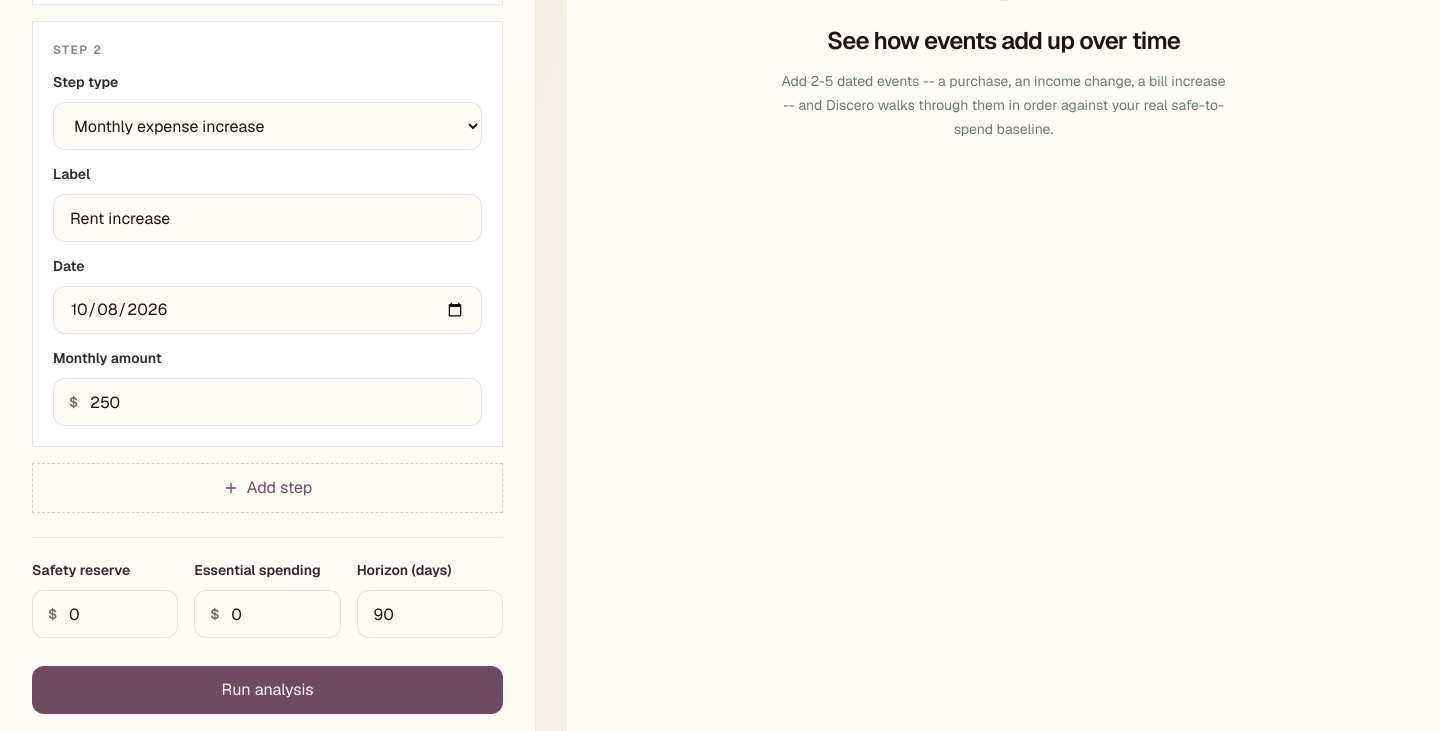
MultiStepScenarioPlanner › renders checkpoints in chronological order with recurring labels
(page scrolled)
Step 1. Click the button "Run analysis" → [268, 690], box [32, 666, 503, 714]
(page scrolled)
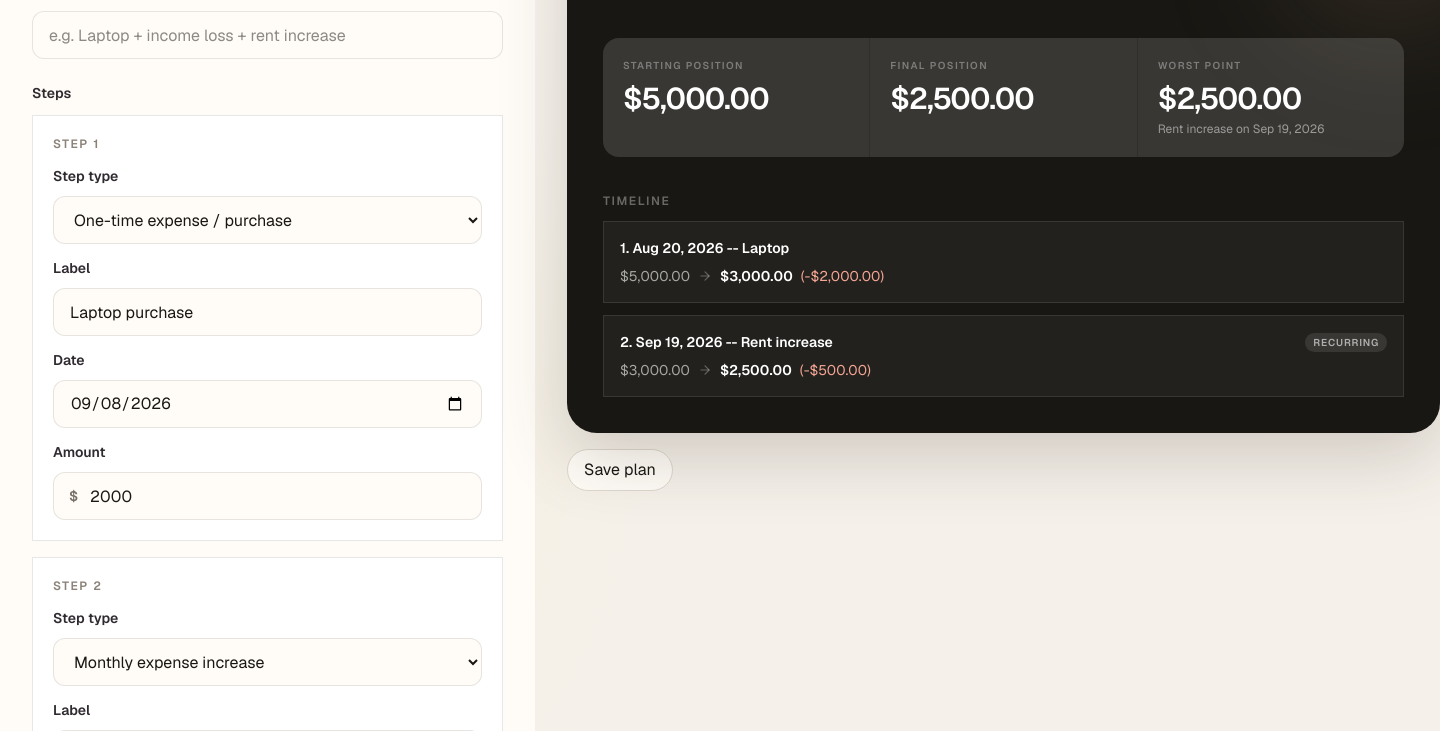
Result: the number of list items is 2 at [603, 221, 1404, 303]; [603, 315, 1404, 397]
Result: the list item "1. Aug 20, 2026 -- Laptop $5,000.00 $3,000.00 (-$2,000.00)" is shown at [603, 221, 1404, 303]
Result: the list item that starts with "Sep 19, 2026" shows "Rent increase" at [741, 333, 833, 351]
